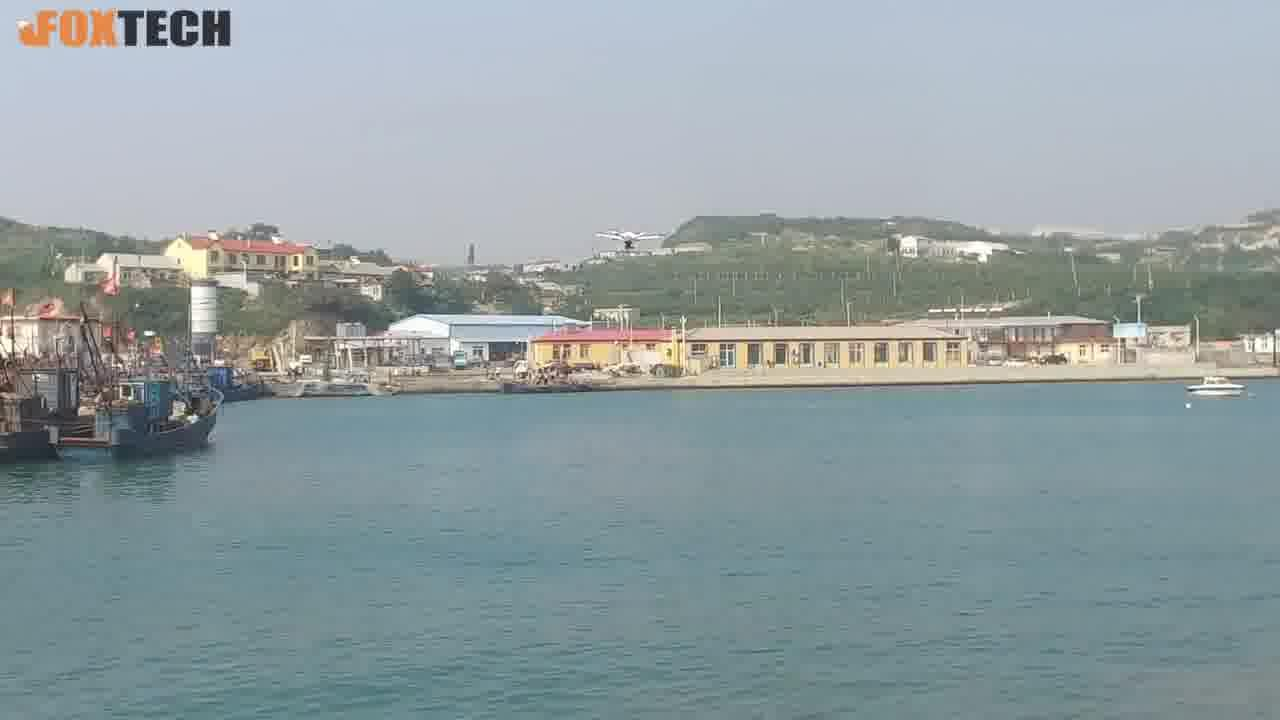drone: (593, 217, 672, 255)
